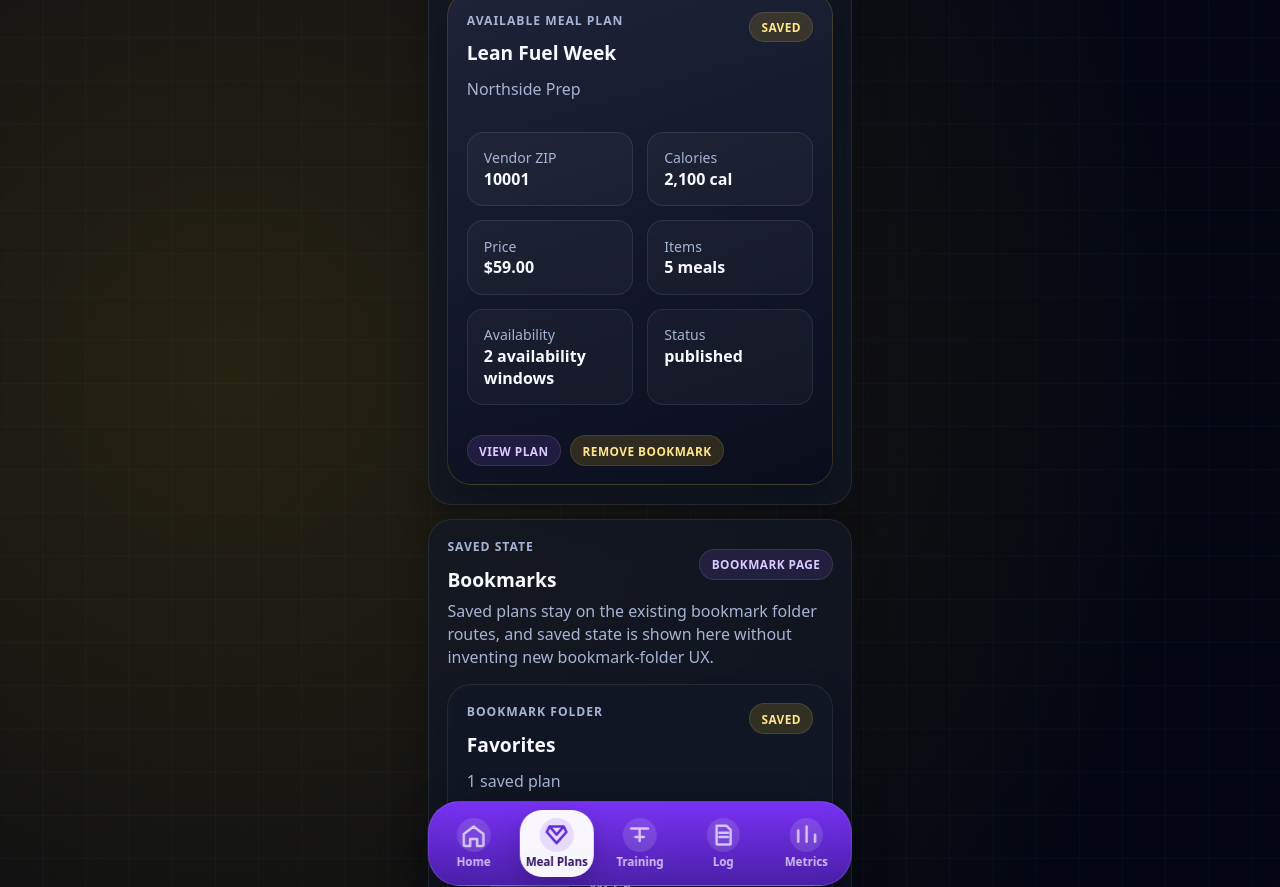
Test case: ClientMealPlansPage mobile experience › removes an existing bookmark through the current bookmark item BFF route
The width and height of the screenshot is (1280, 887).
(page scrolled)
Click the button named "Remove bookmark for Lean Fuel Week" at (647, 451), box [570,435,724,466]
(page scrolled)
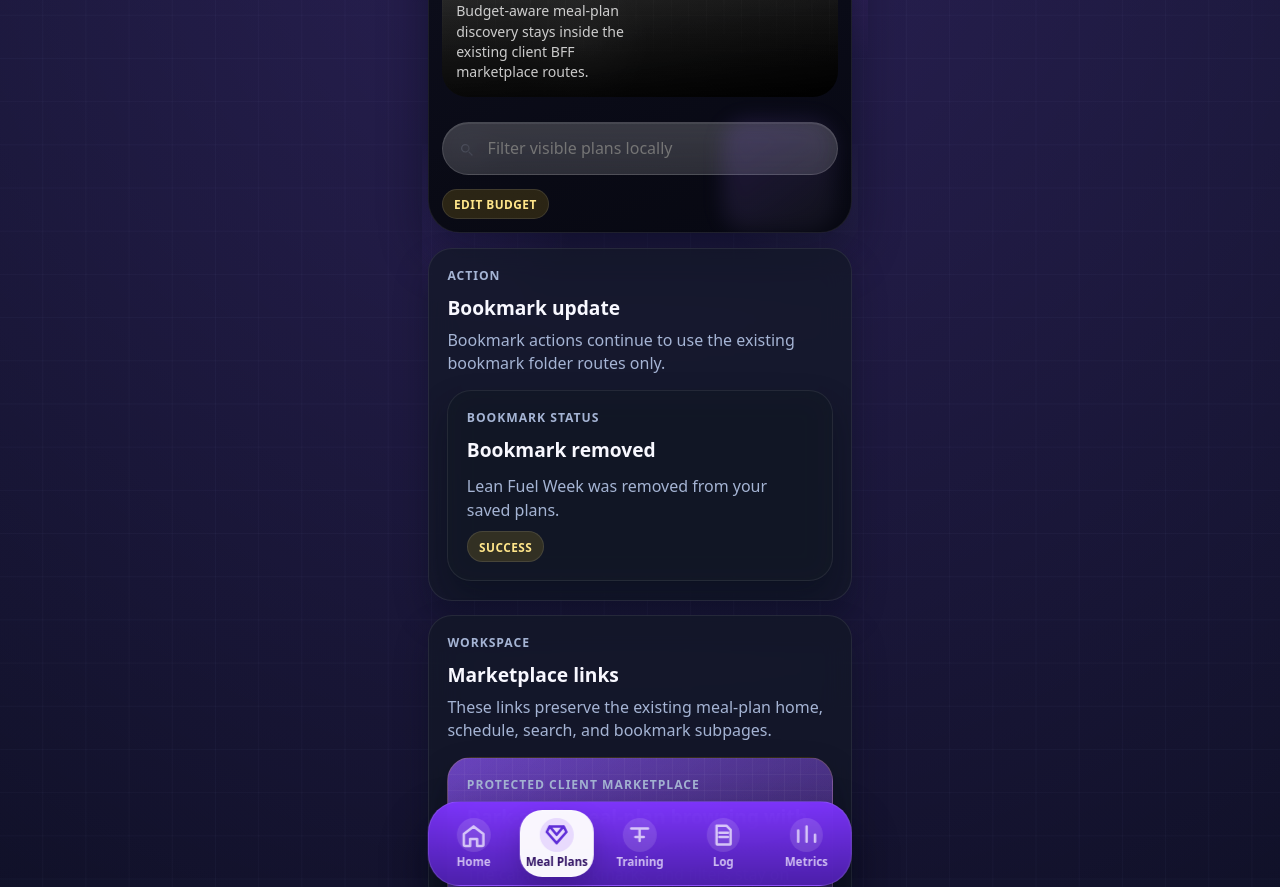
Expected: the heading "Bookmark removed" is shown, [467,436,656,463]
